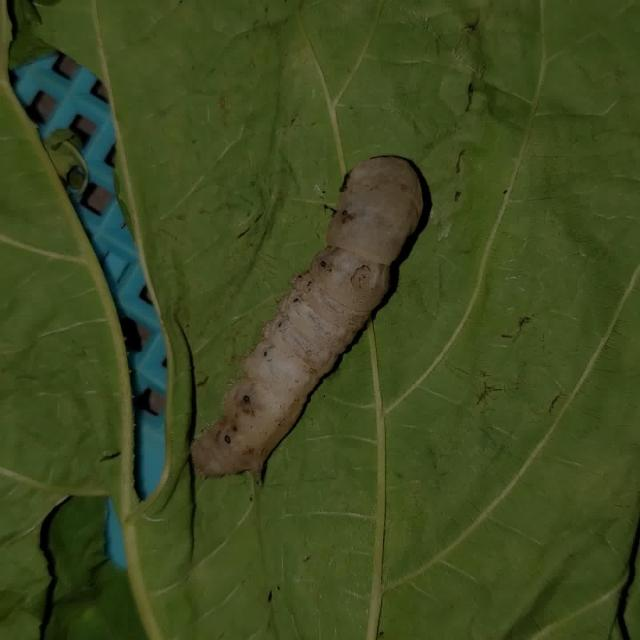Grasserie: (185, 136, 429, 493)
